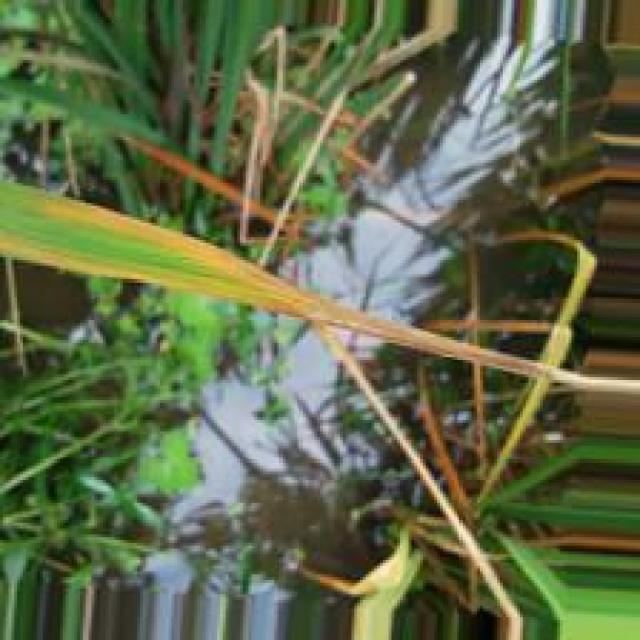Leaf_Scald: (0, 197, 506, 367)
